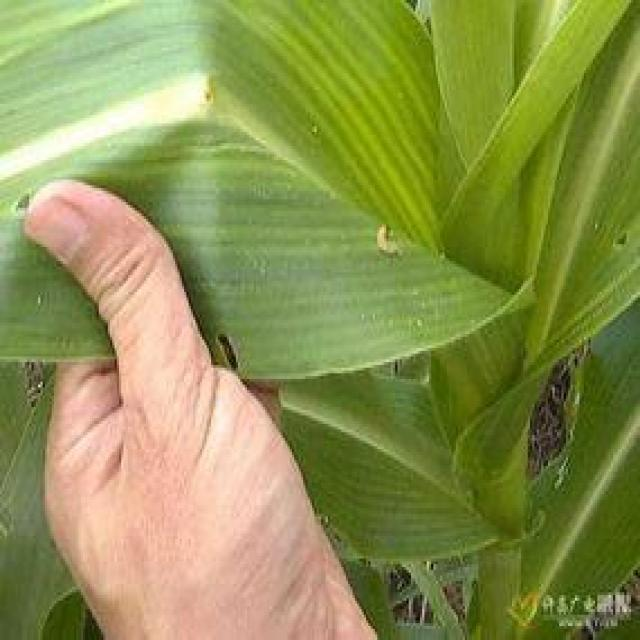BeetArmyWorm-Larva-: (365, 217, 402, 265)
